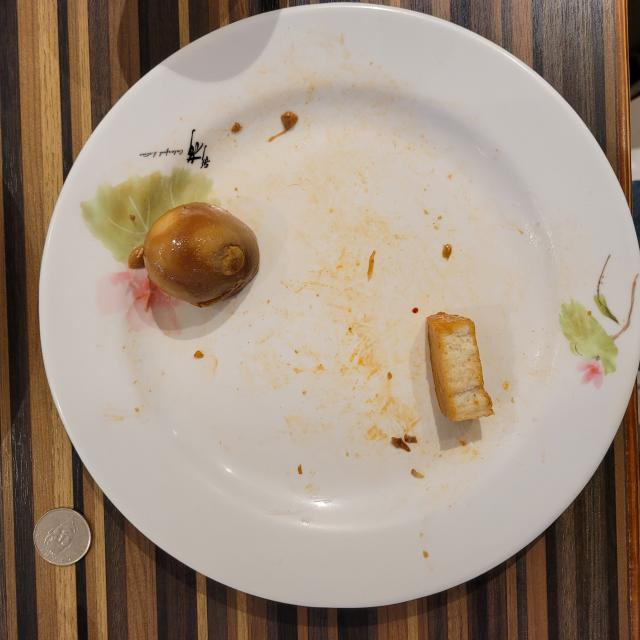coin: (34, 509, 91, 566)
creamy tofu: (426, 312, 494, 421)
soy egg: (140, 202, 259, 308)
